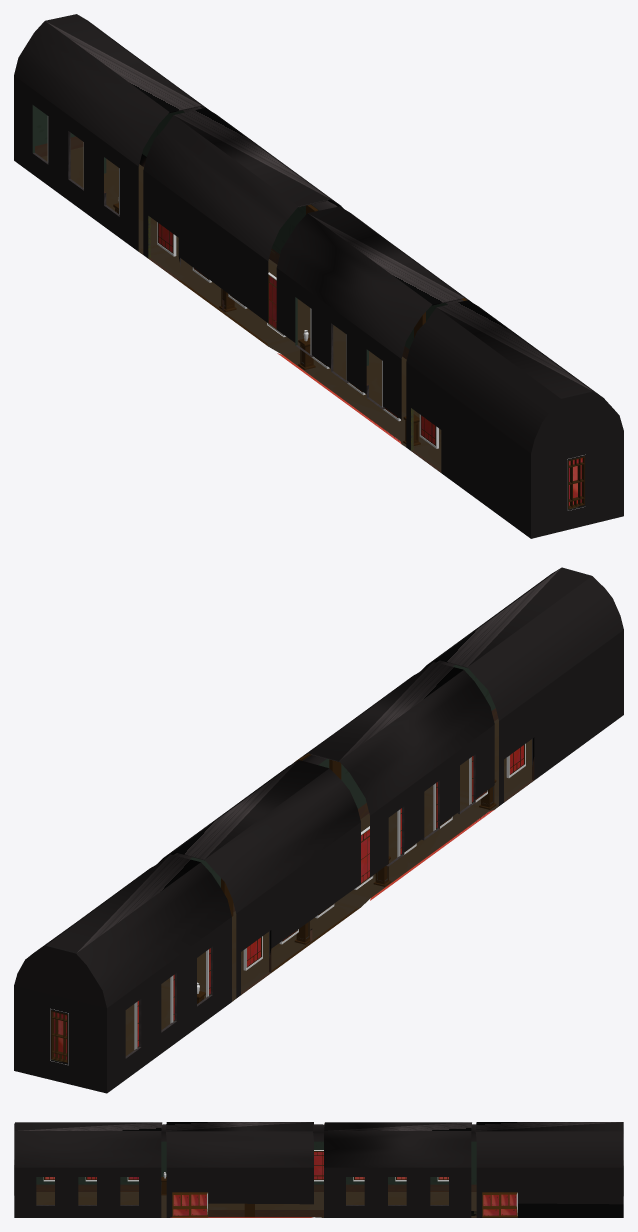
Rendered from 貴賓室廊下.fbx.
3 renders of one model, top to bottom at view 1: azimuth 30°, elevation 25°; view 2: azimuth 150°, elevation 25°; view 3: azimuth 270°, elevation 25°, orthographic. The views are drawn at different scales.
Visible parts, largest first — view 1: 平面.011, 平面.007, 平面.005; view 2: 平面.011, 平面.007, 平面.005; view 3: 平面.011, 平面.004, 平面.007, 平面.005, 平面.003, 平面.019.
Boxes of the visible parts, x1,y1,x2,y2 form: 平面.011: [14, 14, 623, 538]; 平面.007: [41, 147, 441, 470]; 平面.005: [35, 106, 447, 349]; 平面.011: [14, 567, 623, 1093]; 平面.007: [125, 718, 531, 1055]; 平面.005: [190, 665, 495, 887]; 平面.011: [14, 1122, 623, 1217]; 平面.004: [36, 1184, 623, 1217]; 平面.007: [36, 1192, 476, 1217]; 平面.005: [36, 1141, 476, 1184]; 平面.003: [161, 1124, 476, 1141]; 平面.019: [314, 1152, 323, 1179].
Bounding box in the file's own units: 4665 × 6379 × 44872.
